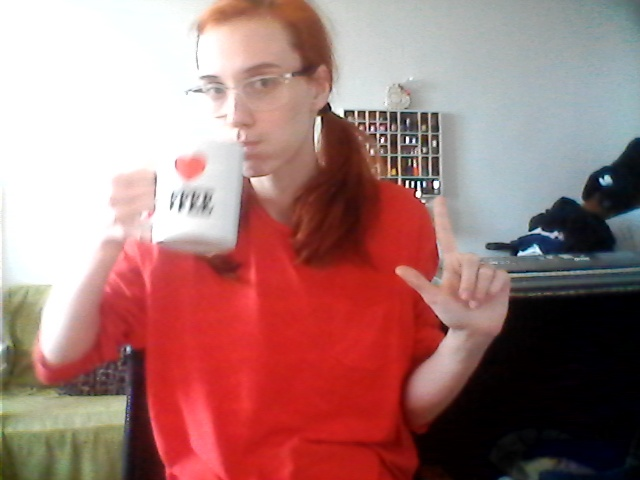l: (390, 194, 518, 338)
